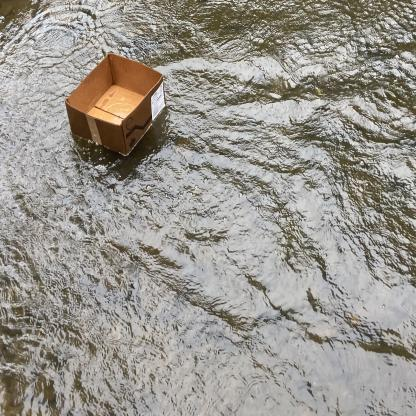trash: (60, 48, 170, 162)
